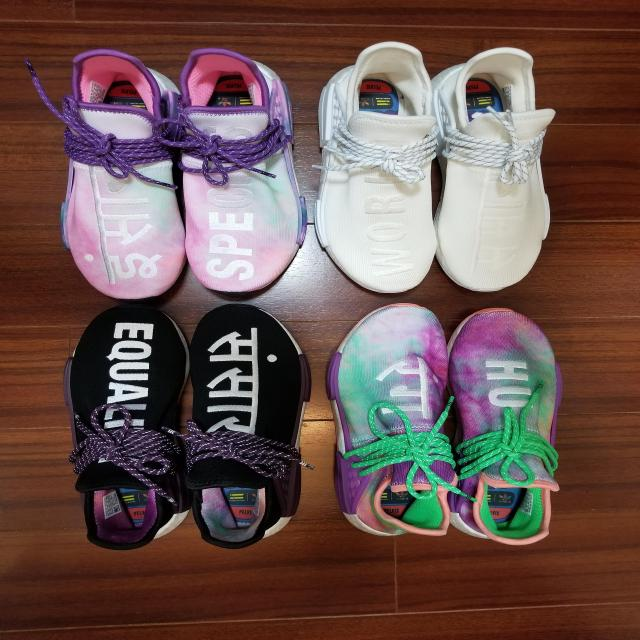shoes: (439, 306, 616, 592), (28, 294, 187, 570), (432, 27, 576, 297), (323, 27, 453, 308), (56, 37, 178, 322), (335, 296, 453, 588), (193, 314, 320, 580), (181, 40, 299, 302)
